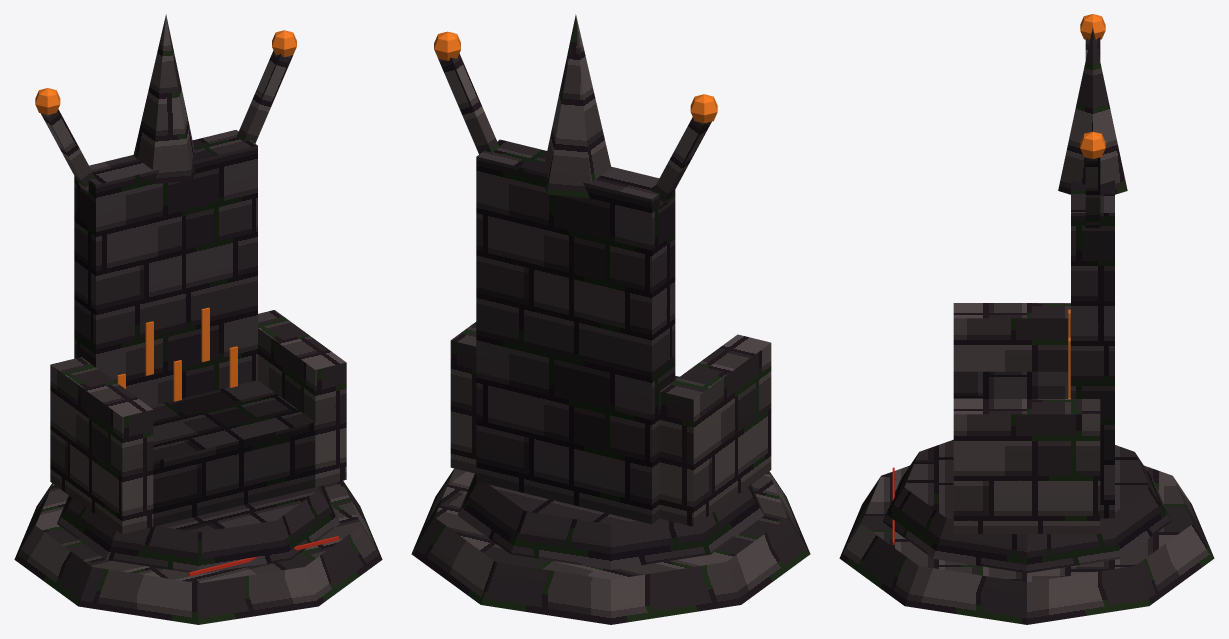
The model's file is ember_throne.glb.
3 views of the same model, side by side, from view 1: azimuth 30°, elevation 25°; view 2: azimuth 150°, elevation 25°; view 3: azimuth 270°, elevation 25° (orthographic). The views are drawn at different scales.
Visible parts, largest first — view 1: ember_throne; view 2: ember_throne; view 3: ember_throne.
Part boxes in pixels (box(x1,y1,x2,y2)): ember_throne: box(14, 14, 382, 624); ember_throne: box(411, 14, 810, 624); ember_throne: box(839, 14, 1214, 624).
Size of the model in its own units: 5.04 by 7.8 by 5.12.
2 materials, 1 textured.
